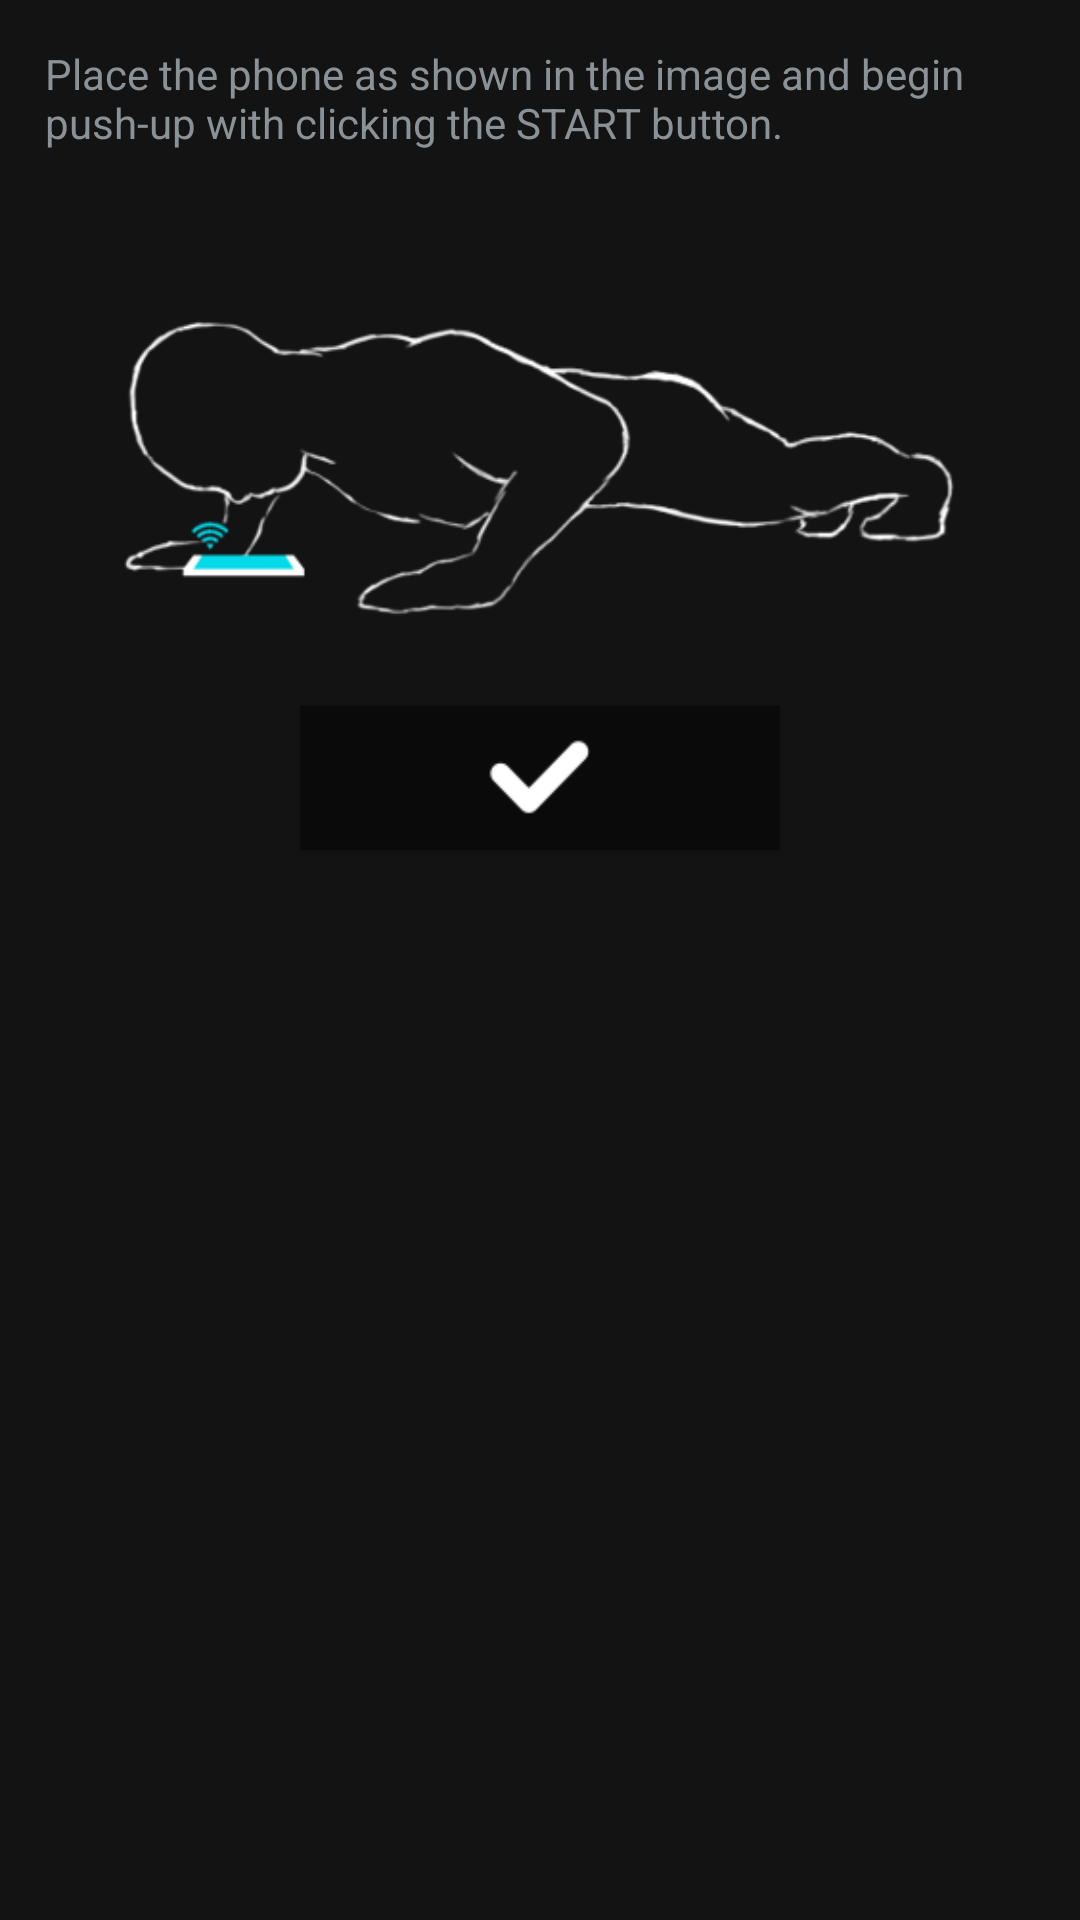

Where to tap for icons on this 1080 × 1920 app screen, as [x,y]:
setting dialog confirm: [539,777]
